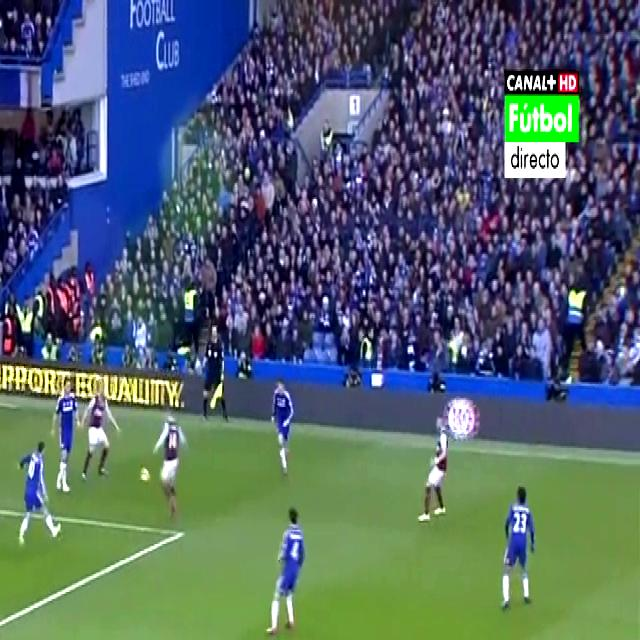ball: (139, 456, 153, 490)
referee: (194, 302, 232, 429), (0, 604, 7, 640)
soccer-player: (490, 464, 544, 622), (76, 355, 136, 490), (7, 417, 63, 561), (412, 387, 459, 533), (147, 386, 191, 530), (268, 498, 308, 640), (48, 356, 76, 504), (266, 352, 300, 472)
